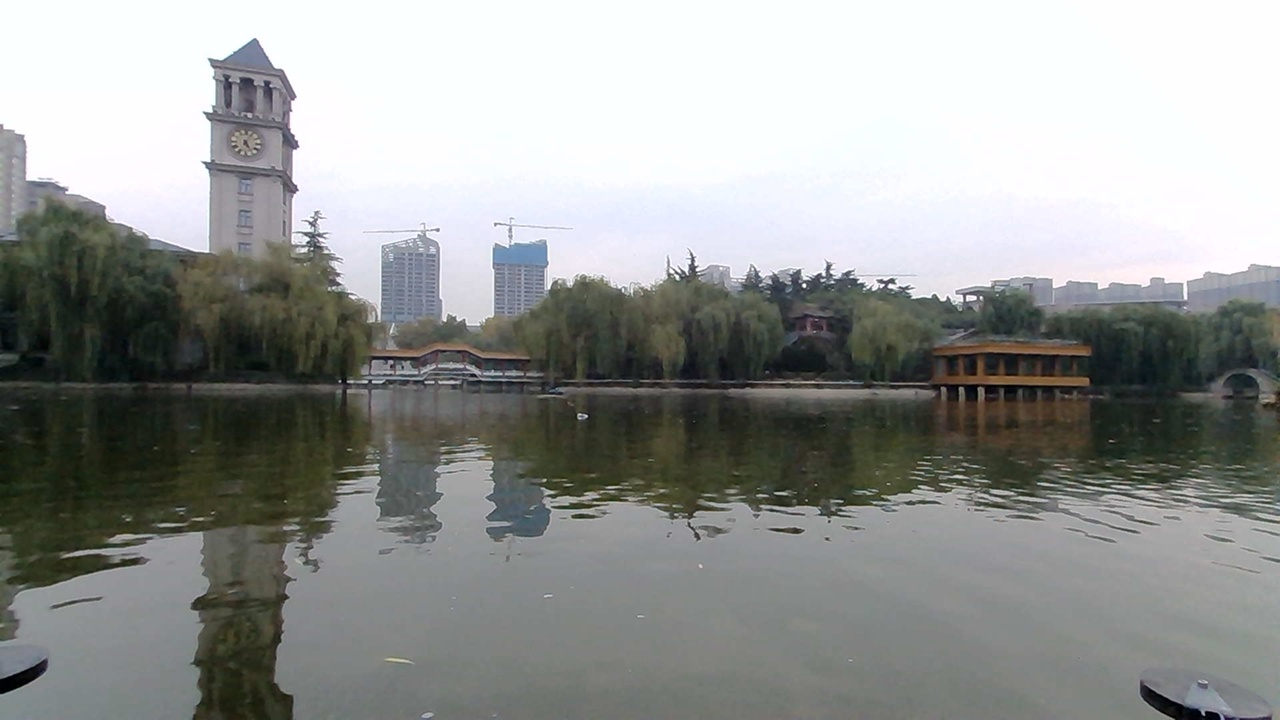bottle: (559, 399, 604, 423)
